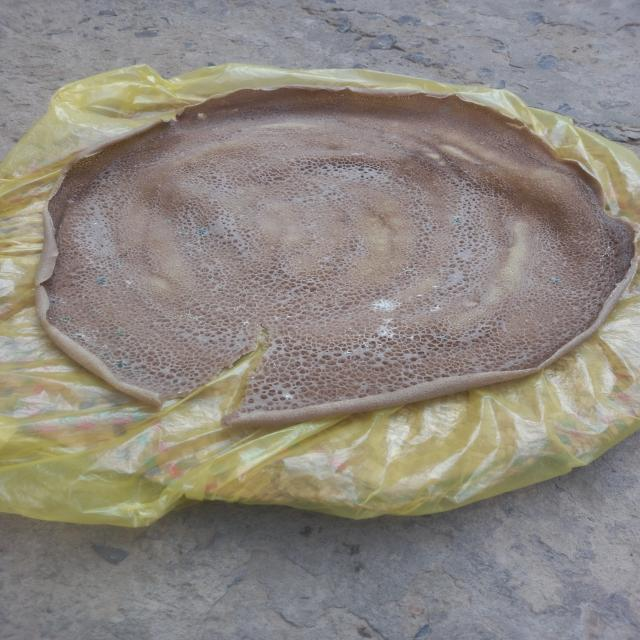injera_mold: (336, 316, 399, 364), (69, 325, 103, 343), (367, 298, 400, 313), (176, 310, 208, 325), (396, 264, 424, 280), (217, 304, 253, 316), (82, 256, 105, 269), (106, 329, 132, 340), (49, 314, 72, 324), (424, 304, 444, 313), (450, 215, 465, 226), (436, 332, 450, 342), (114, 361, 126, 370), (284, 391, 293, 401), (552, 276, 561, 285), (95, 278, 106, 285), (66, 198, 76, 205), (100, 352, 111, 358), (195, 229, 206, 235), (430, 284, 440, 290), (50, 297, 60, 303), (115, 259, 124, 265), (179, 231, 187, 237), (92, 222, 100, 227), (110, 179, 116, 185), (243, 321, 251, 325), (409, 335, 415, 340), (162, 221, 172, 224), (213, 128, 219, 133), (418, 293, 422, 298)
